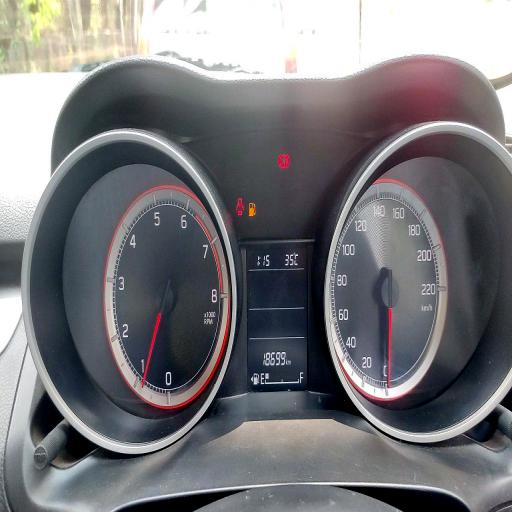brake_system_fault: (279, 153, 290, 168)
tachometer: (104, 184, 231, 409)
